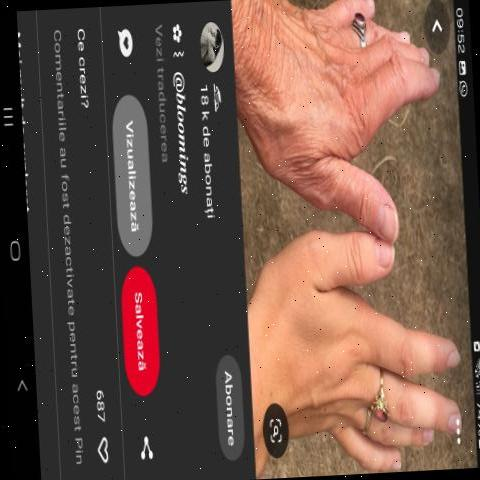Hands: (252, 229, 464, 480), (254, 0, 440, 237)
